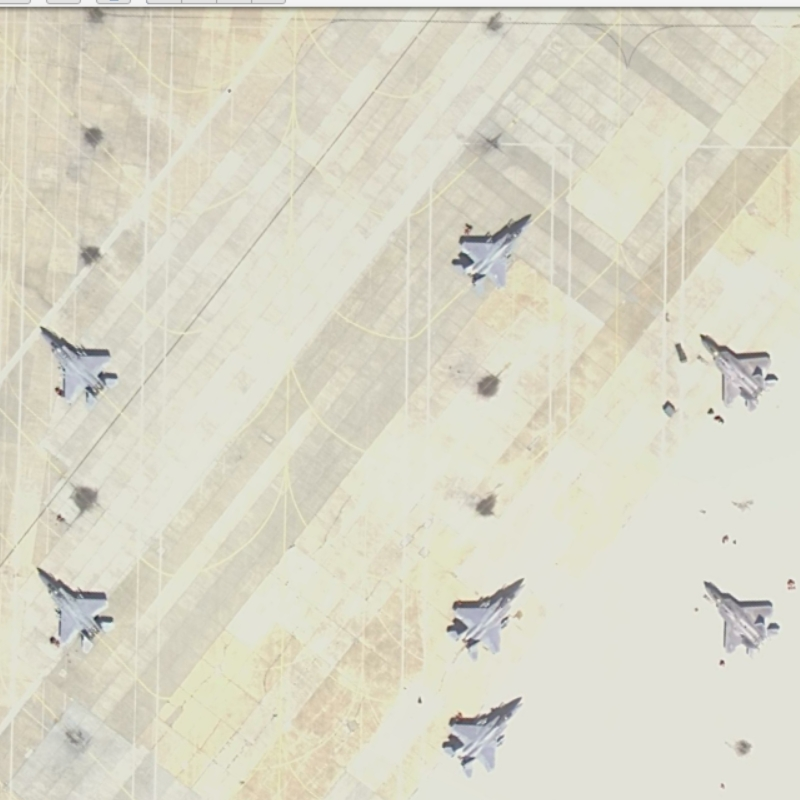A13: (34, 562, 119, 657), (439, 577, 533, 660), (440, 695, 528, 782), (449, 208, 537, 294), (36, 323, 122, 408)
A15: (698, 328, 781, 412), (699, 578, 784, 660)
